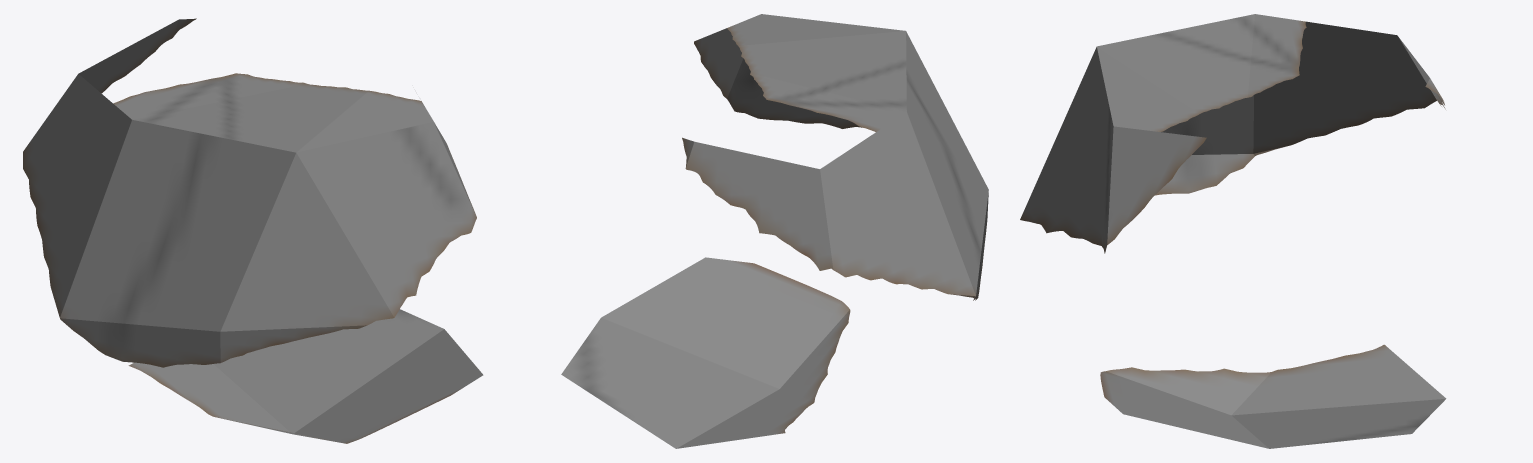
File: Stone.fbx
3 views of the same model, side by side, from view 1: azimuth 30°, elevation 25°; view 2: azimuth 150°, elevation 25°; view 3: azimuth 270°, elevation 25° (orthographic). The views are drawn at different scales.
Parts seen in each view (by area): view 1: Cube; view 2: Cube; view 3: Cube.
Part boxes in pixels (x1,y1,x2,y2): Cube: (23, 18, 483, 443); Cube: (561, 14, 988, 448); Cube: (1020, 14, 1446, 448).
Size of the model in its own units: 146 by 118 by 159.
Materials: 1 (1 with a texture image).
